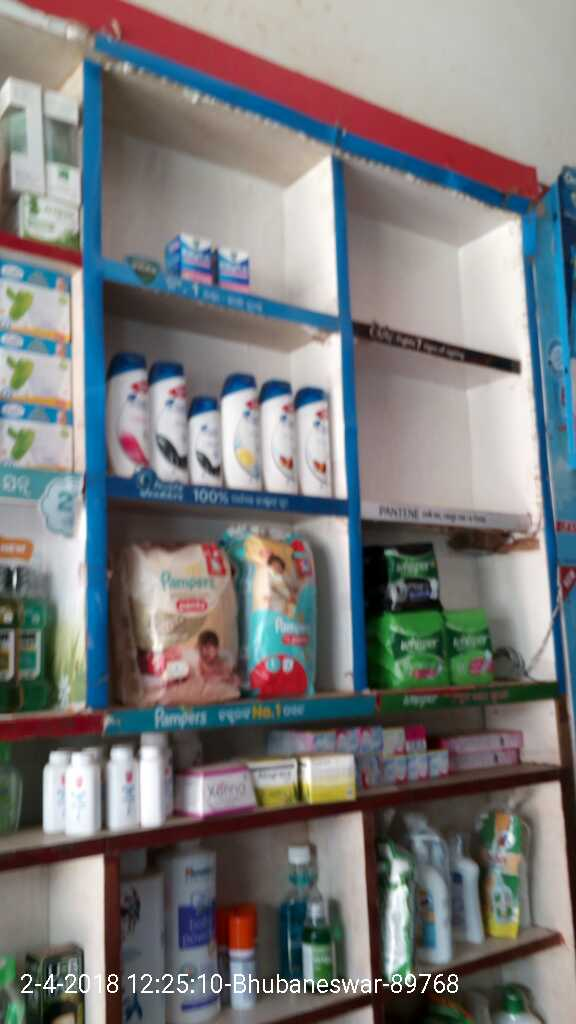oralcare: (281, 843, 317, 984), (22, 565, 58, 705), (1, 566, 22, 705)
vicks: (169, 235, 217, 287), (217, 247, 249, 287)
